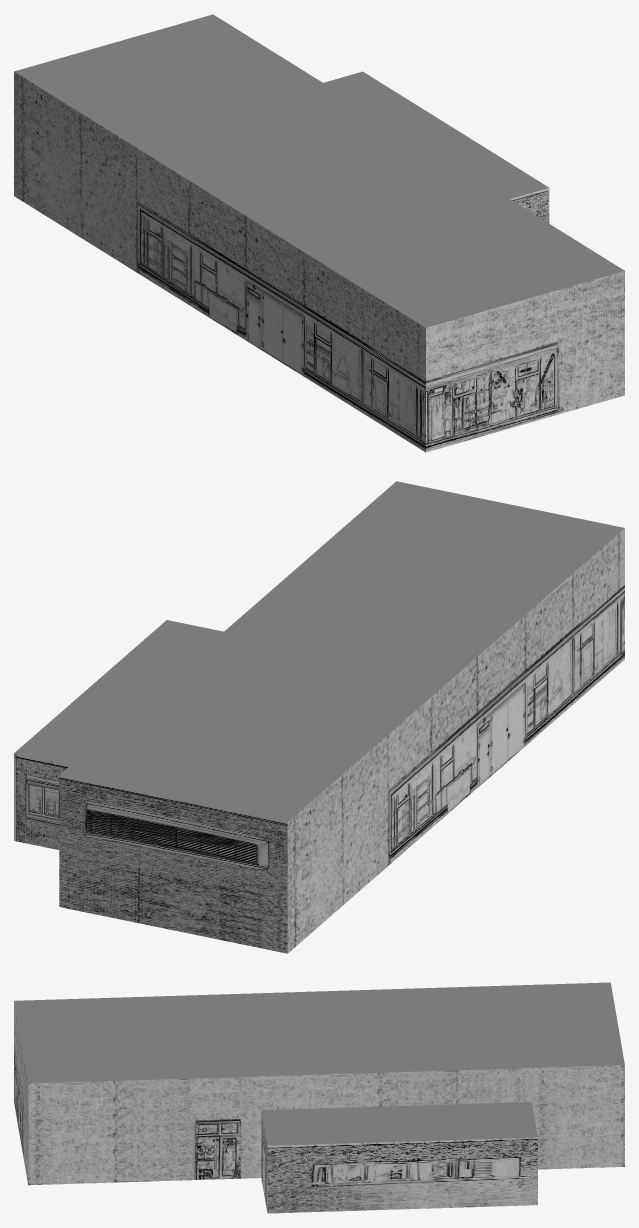
File: Textilmaschinenhalle.gltf
3 views of the same model, one above another, from view 1: azimuth 30°, elevation 25°; view 2: azimuth 150°, elevation 25°; view 3: azimuth 270°, elevation 25° (orthographic). The views are drawn at different scales.
Parts seen in each view (by area): view 1: Dach.1; view 2: Dach.1; view 3: Dach.1.
Boxes of the visible parts, <box> form: Dach.1: <box>14,14,624,452</box>; Dach.1: <box>14,481,624,953</box>; Dach.1: <box>14,982,624,1213</box>.
Size of the model in its own units: 16.38 by 6 by 32.68.
Materials: 9 (8 with a texture image).
